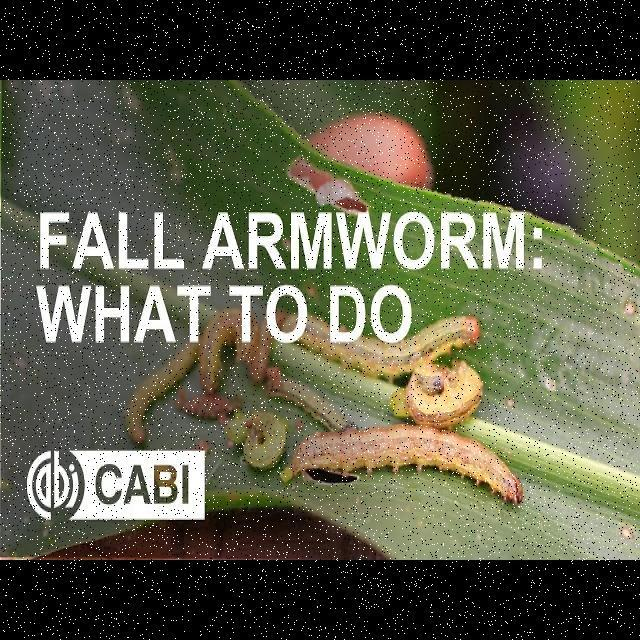army worm: (73, 198, 544, 521)
